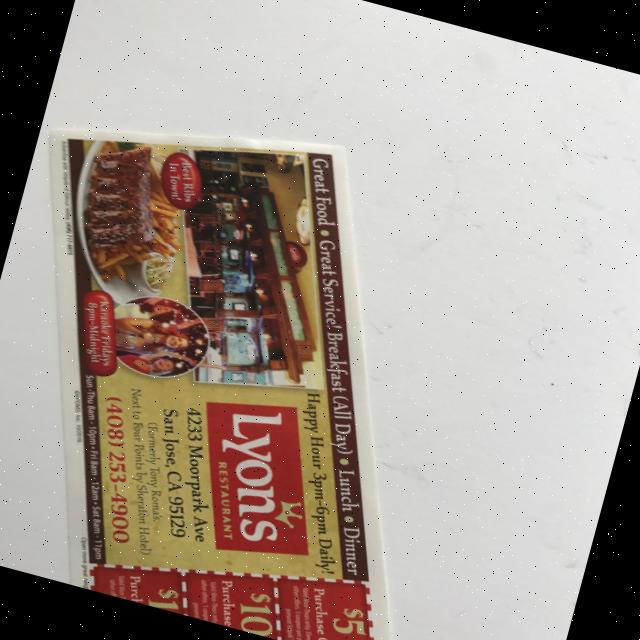paper: (0, 72, 523, 640)
